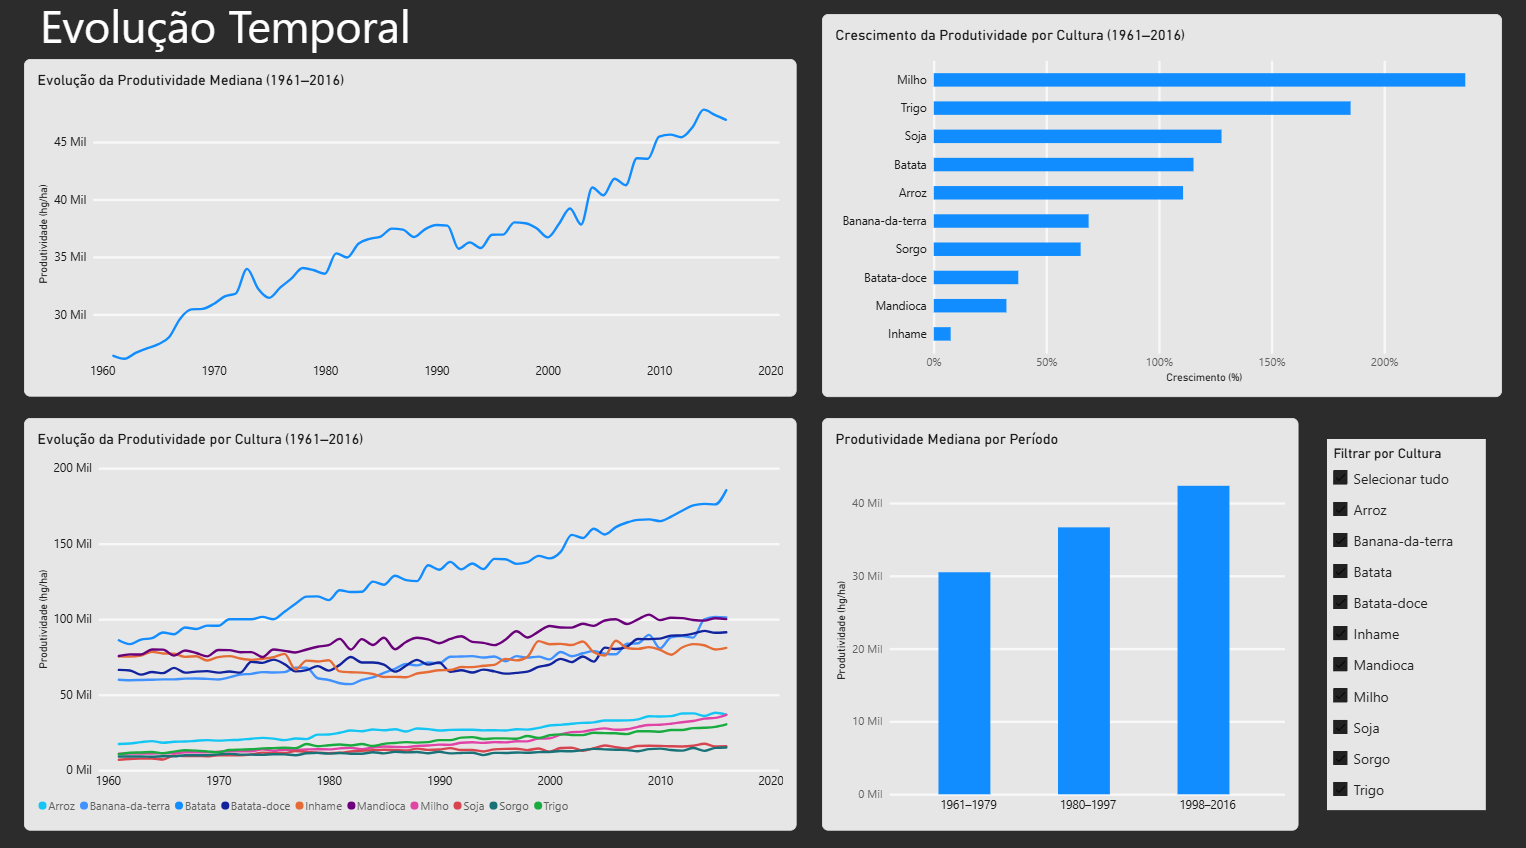

The dashboard page shown, as its layout file describes it:
{"tool":"powerbi","page":{"name":"Evolução Temporal","canvas":[1920,1080],"ordinal":2},"visuals":[{"type":"lineChart","title":"Evolução da Produtividade Mediana (1961–2016)","fields":{"Category":["Dim_Ano.Year"],"Y":["yield_integrado.Produtividade Mediana"]},"box":[34.5,80,968.3,423.4],"z":0},{"type":"lineChart","title":"Evolução da Produtividade por Cultura (1961–2016)","fields":{"Category":["Dim_Ano.Year"],"Series":["Dim_Cultura.Cultura"],"Y":["yield_integrado.Produtividade Mediana"]},"box":[34.5,529.7,968.3,517.2],"z":1},{"type":"clusteredBarChart","title":"Crescimento da Produtividade por Cultura (1961–2016)","fields":{"Category":["Dim_Cultura.Cultura"],"Y":["yield_integrado.Crescimento 1961-2016"]},"box":[1034.5,23.4,852.4,480],"z":2},{"type":"textbox","box":[55.2,0,511.7,80],"z":3},{"type":"clusteredColumnChart","title":"Produtividade Mediana por Período","fields":{"Category":["Dim_Ano.Período"],"Y":["yield_integrado.Produtividade Mediana"]},"box":[1034.5,529.7,597.2,517.2],"z":4},{"type":"slicer","fields":{"Values":["Dim_Cultura.Cultura"]},"box":[1667.6,555.9,198.6,464.8],"z":5}]}

Visuals, with their boxes in screenshot pixels (x1, y1, x2, y2), scaled from the page's 1920x1080 canvas onto the 1526x848 screenshot:
"Evolução da Produtividade Mediana (1961–2016)" lineChart: 27, 63, 797, 395
"Evolução da Produtividade por Cultura (1961–2016)" lineChart: 27, 416, 797, 822
"Crescimento da Produtividade por Cultura (1961–2016)" clusteredBarChart: 822, 18, 1500, 395
textbox: 44, 0, 451, 63
"Produtividade Mediana por Período" clusteredColumnChart: 822, 416, 1297, 822
slicer - Dim_Cultura.Cultura: 1325, 436, 1483, 801
